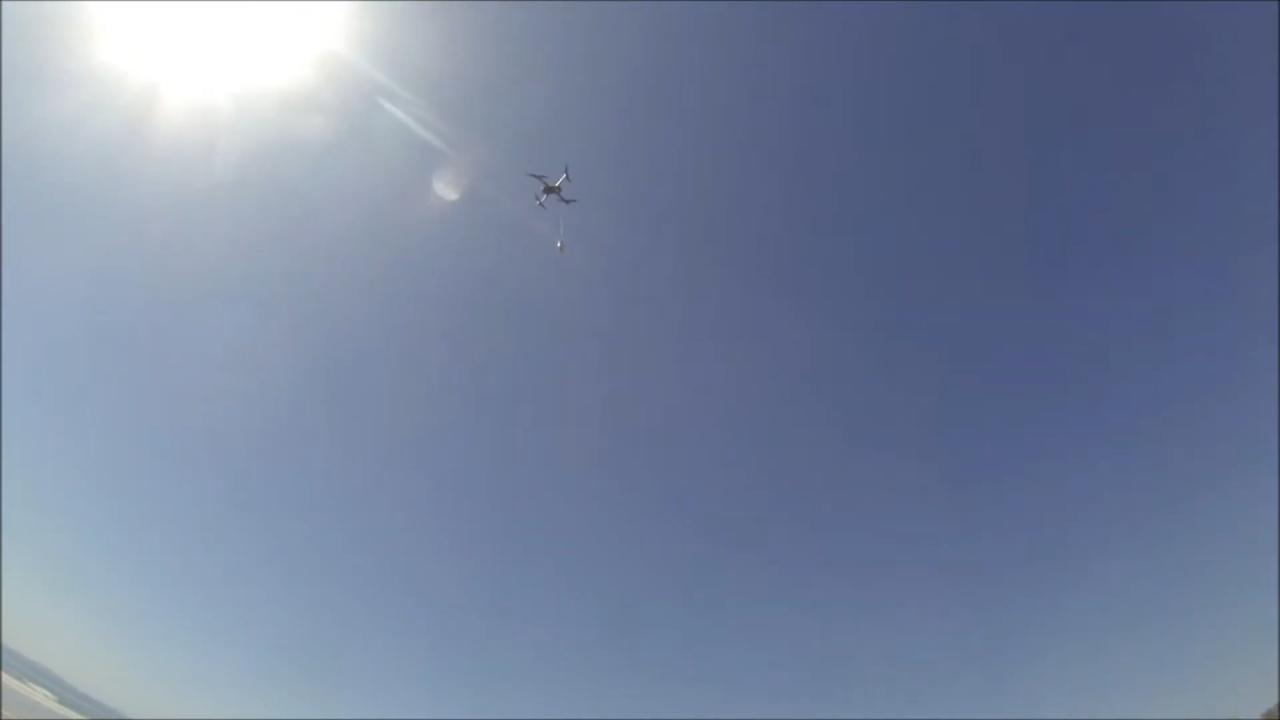Drone: (519, 158, 584, 221)
